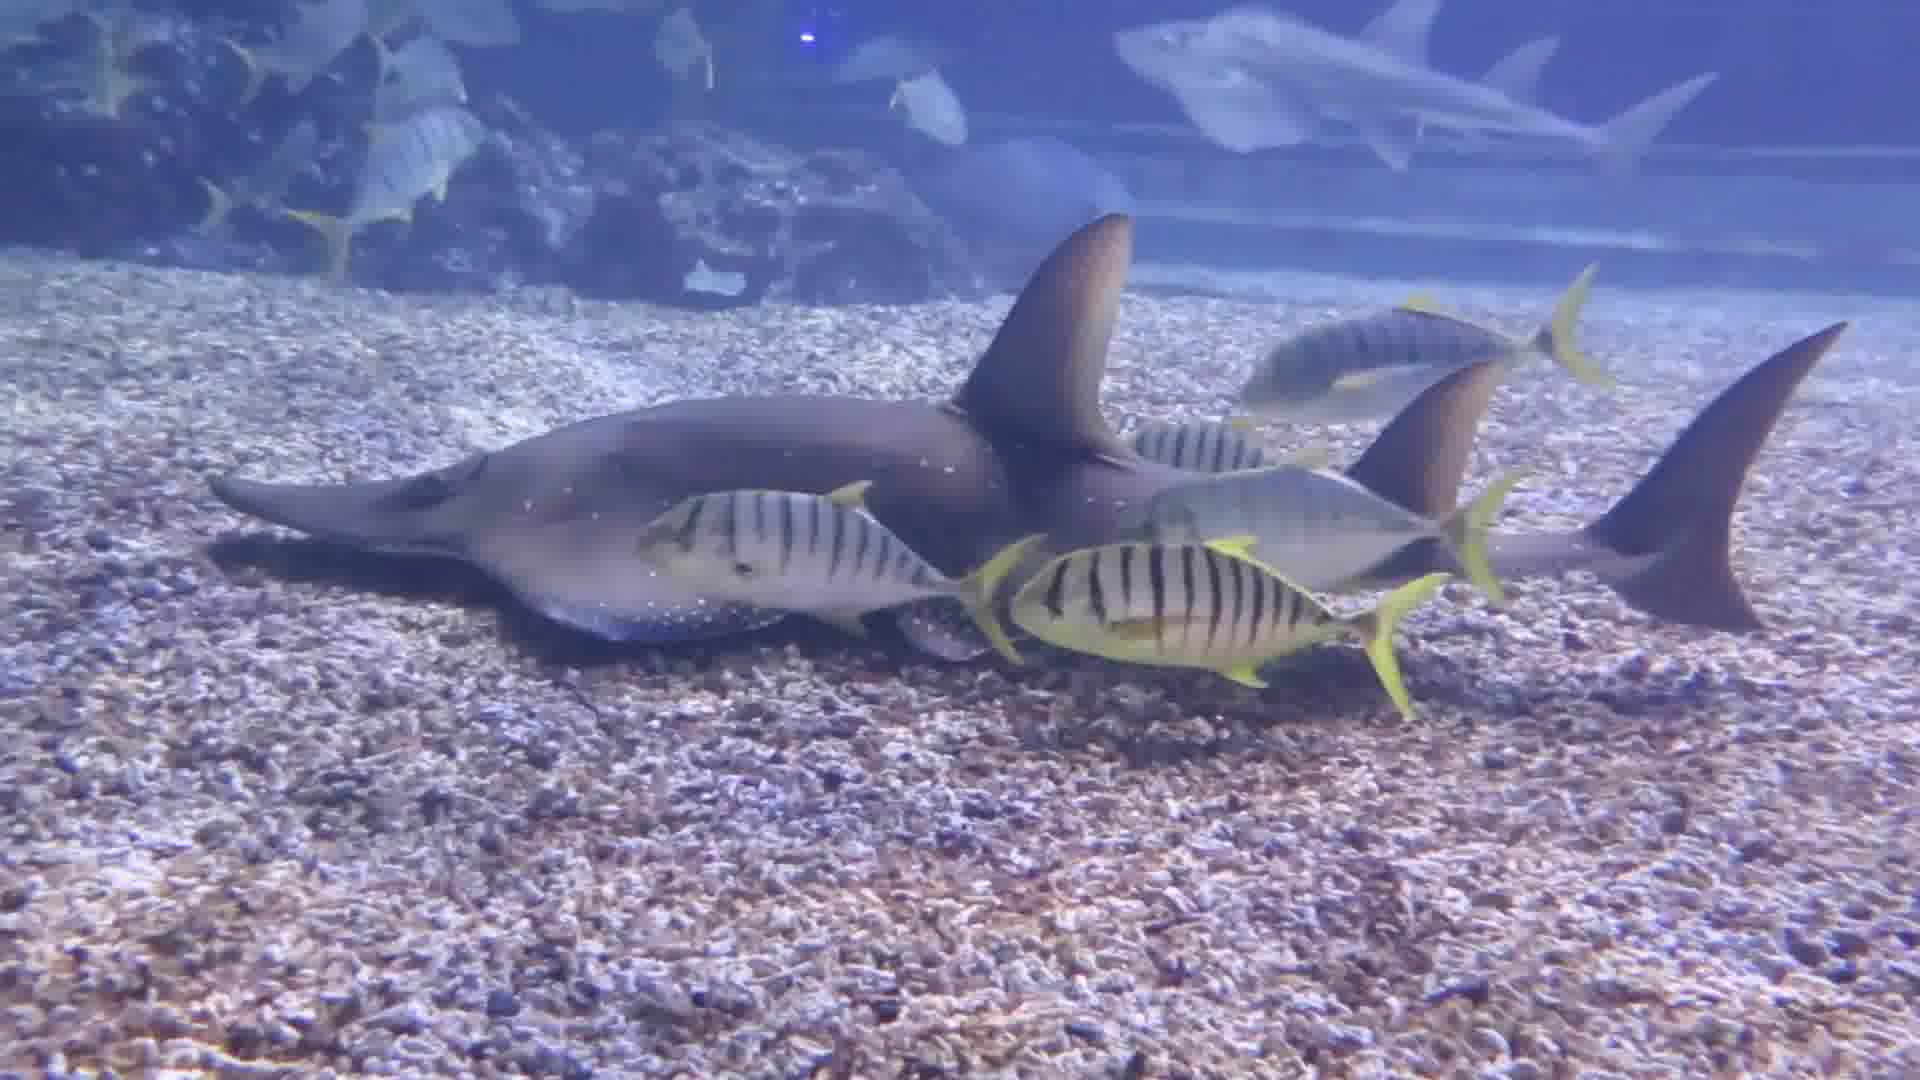Rhychobatus djiddensis: (228, 218, 1876, 696)
